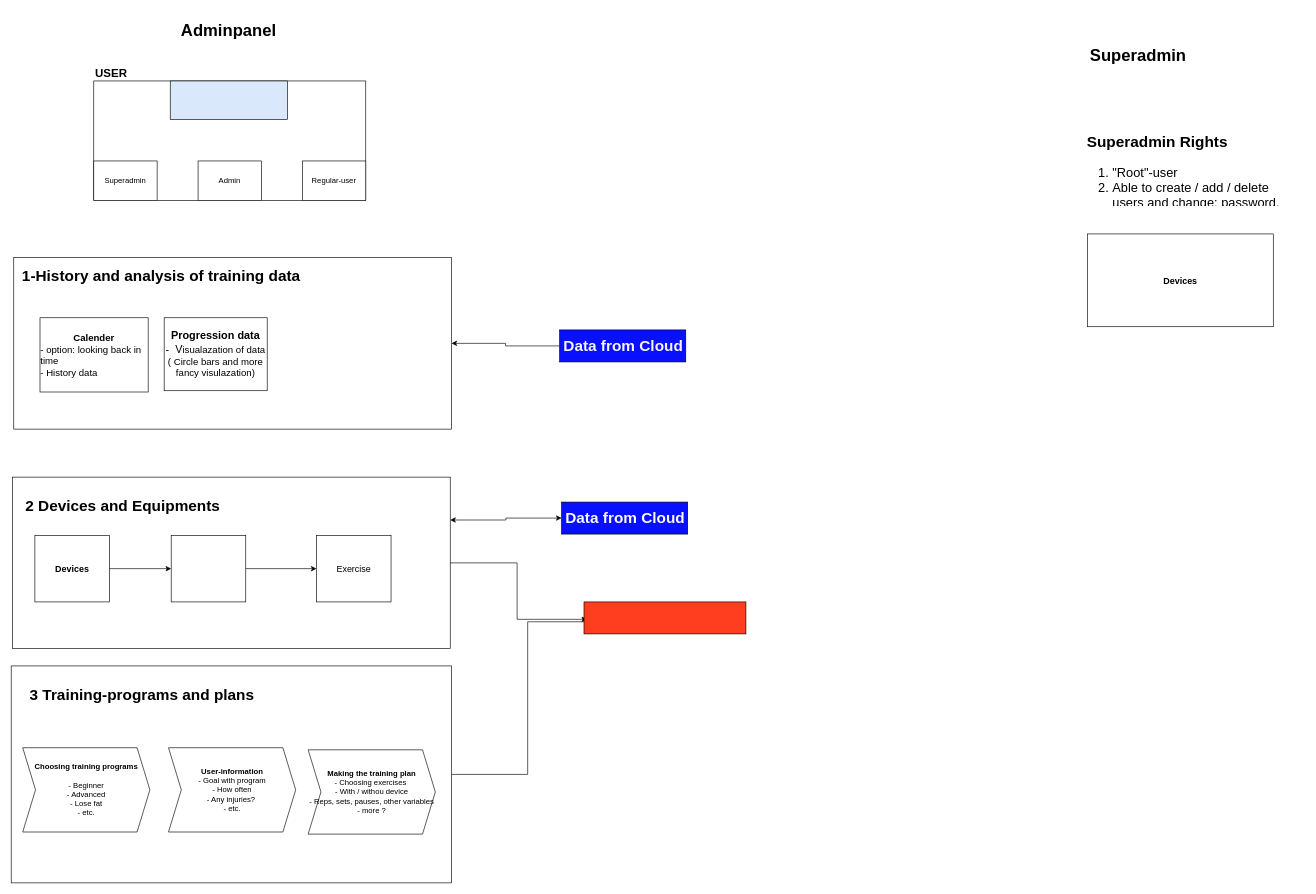
This 1316x894 diagram has some shape labels left out. Here are the shapes that lost their labels. From the top down, the centre of each, then its label:
the point at 228,99: Users
the point at 208,568: Equipments
the point at 664,617: Implement in the App
